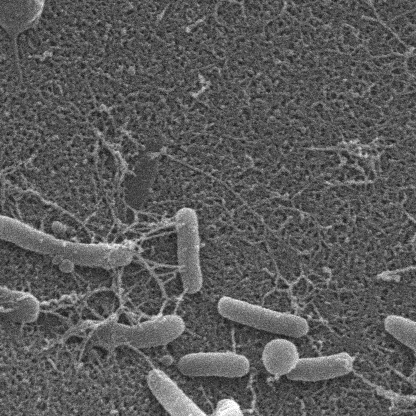cell2cell: (126, 345, 160, 377), (133, 222, 180, 245), (140, 259, 185, 277), (174, 289, 188, 314), (399, 416, 416, 416)
cell2surface: (346, 366, 416, 411), (38, 286, 128, 307), (135, 254, 171, 300), (121, 298, 146, 329), (113, 266, 128, 295), (0, 306, 6, 350), (230, 331, 240, 357), (160, 298, 169, 318)
regular: (0, 214, 131, 266), (217, 297, 310, 341), (81, 318, 185, 350), (146, 373, 215, 416), (171, 211, 205, 297), (0, 273, 42, 325), (383, 313, 416, 377), (181, 354, 249, 380), (292, 357, 346, 382), (262, 341, 297, 372), (217, 400, 247, 416)
spheroplast: (0, 0, 42, 32)
